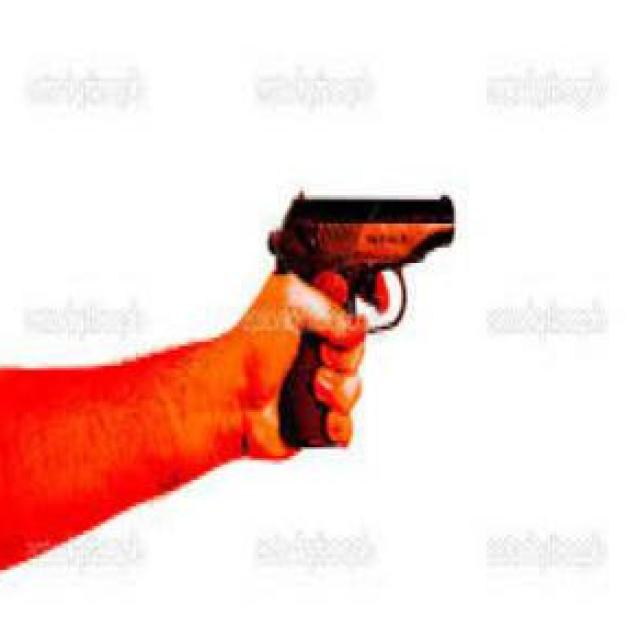pistol: (265, 188, 458, 452)
